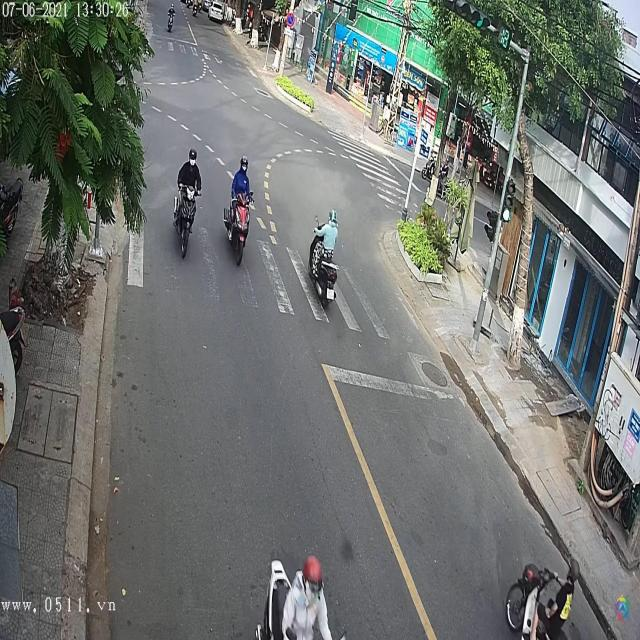car: (210, 4, 227, 24)
motorcycle: (307, 219, 338, 302), (173, 174, 202, 260), (222, 184, 252, 266)
